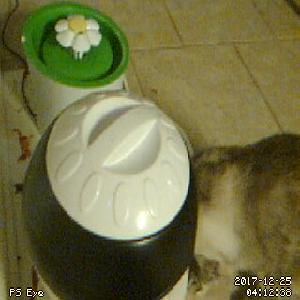cat: (188, 132, 300, 300)
fountain: (22, 3, 129, 88)
